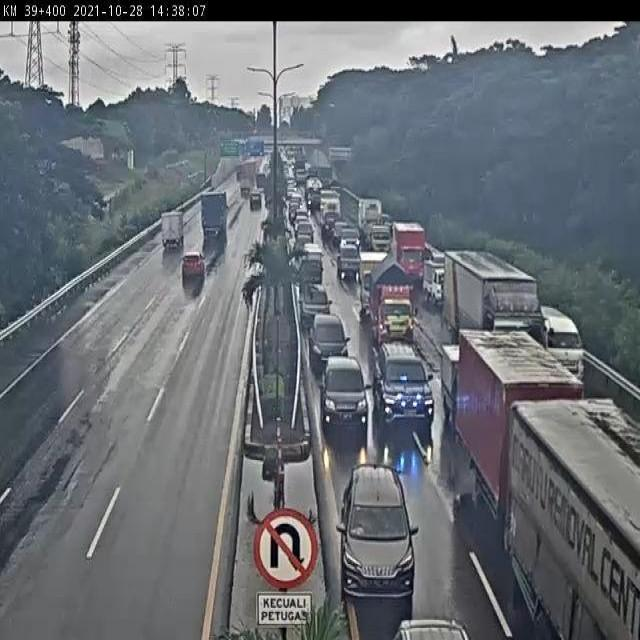car: (339, 464, 415, 601)
truck-l-: (444, 250, 543, 382)
truck-m-: (457, 329, 585, 523), (370, 259, 414, 341)
